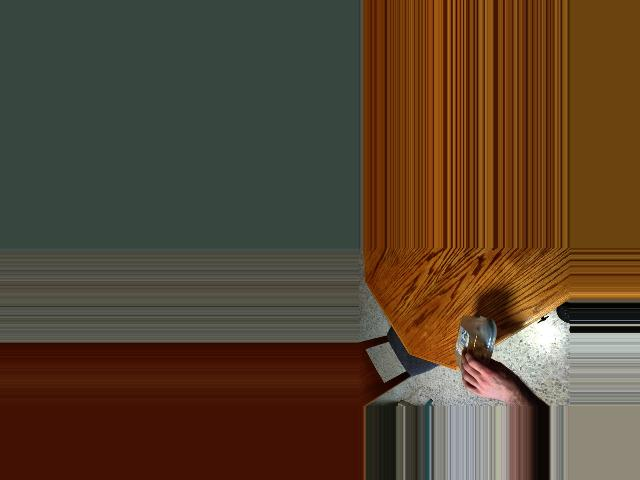cheese: (453, 327, 501, 381)
